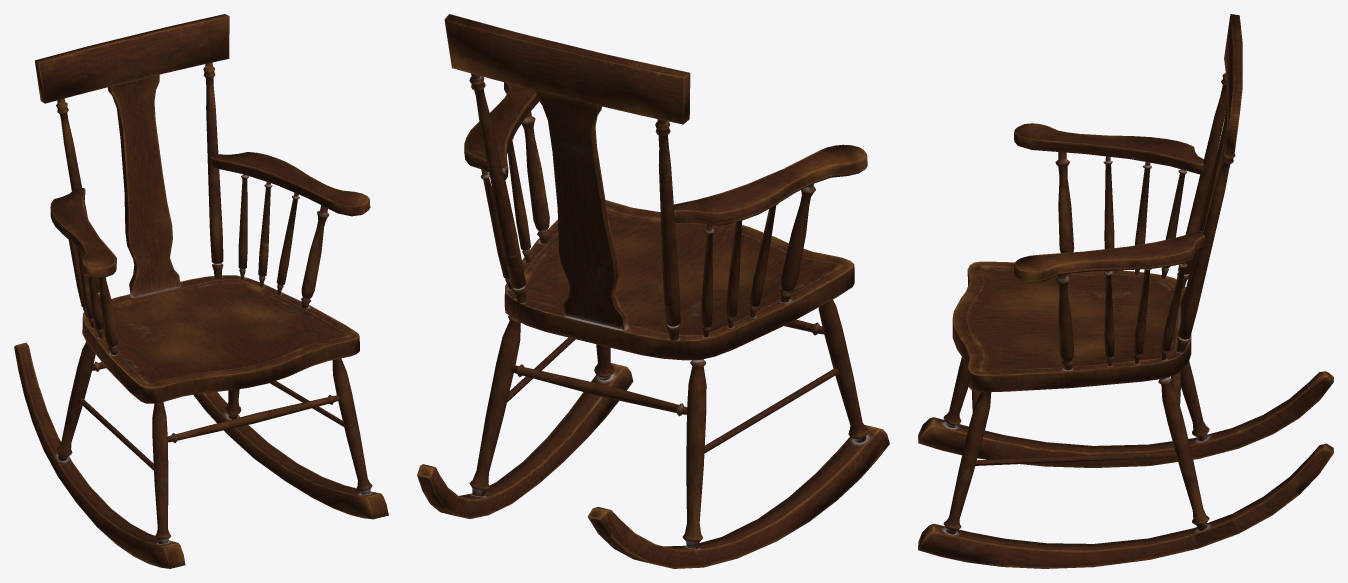
File: Rockingchair_01.glb
The picture shows the model from 3 angles, left to right: view 1: azimuth 30°, elevation 25°; view 2: azimuth 150°, elevation 25°; view 3: azimuth 270°, elevation 25°; orthographic projection. The views are drawn at different scales.
Visible parts, largest first — view 1: Rockingchair_01; view 2: Rockingchair_01; view 3: Rockingchair_01.
Part boxes in pixels (<box>): Rockingchair_01: <box>14,14,388,568</box>; Rockingchair_01: <box>417,14,889,568</box>; Rockingchair_01: <box>918,14,1333,568</box>.
Size of the model in its own units: 0.7081 by 0.9945 by 0.8337.
1 material, 1 textured.
